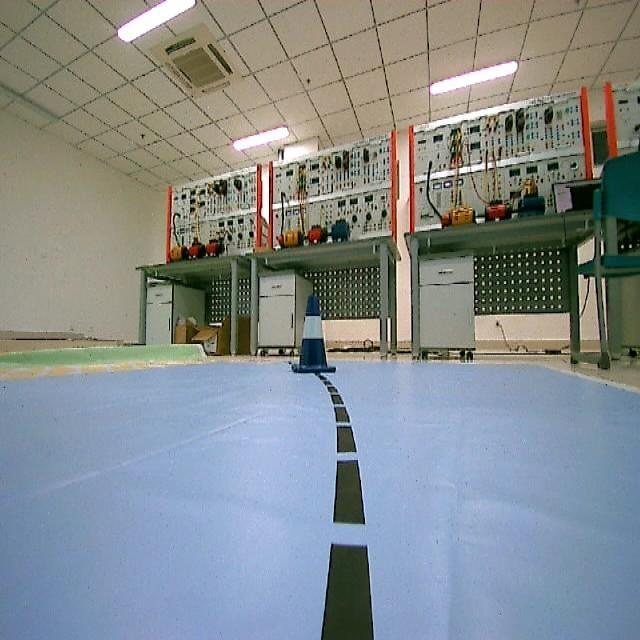obstacle: (286, 293, 338, 380)
